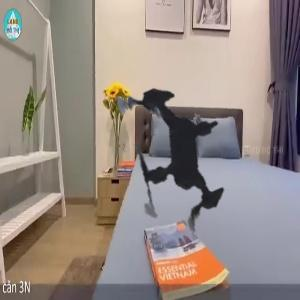drone: (64, 41, 299, 276)
